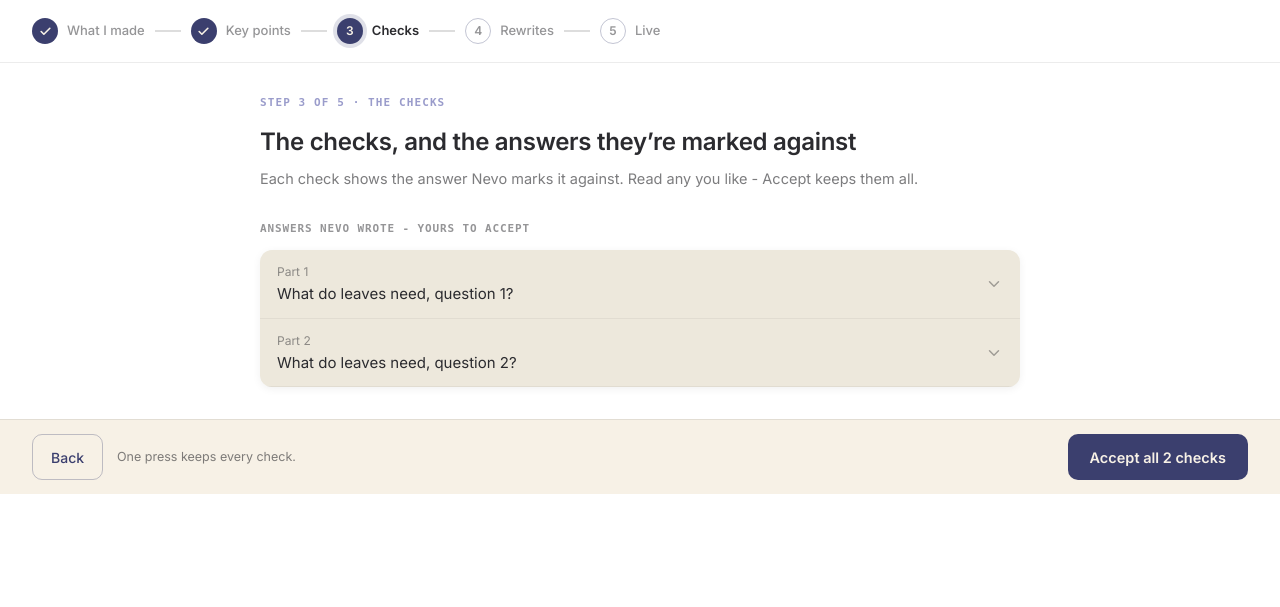
it: reading what the lesson asks › opens a check to its choices, with the answer marked
Expected: the navigation bar named "Lesson review steps" is shown, x1=0 y1=0 x2=1279 y2=63
Click the button "Part 1 What do leaves need, question 1?". click: (293, 271)
box: x1=260 y1=250 x2=1020 y2=318
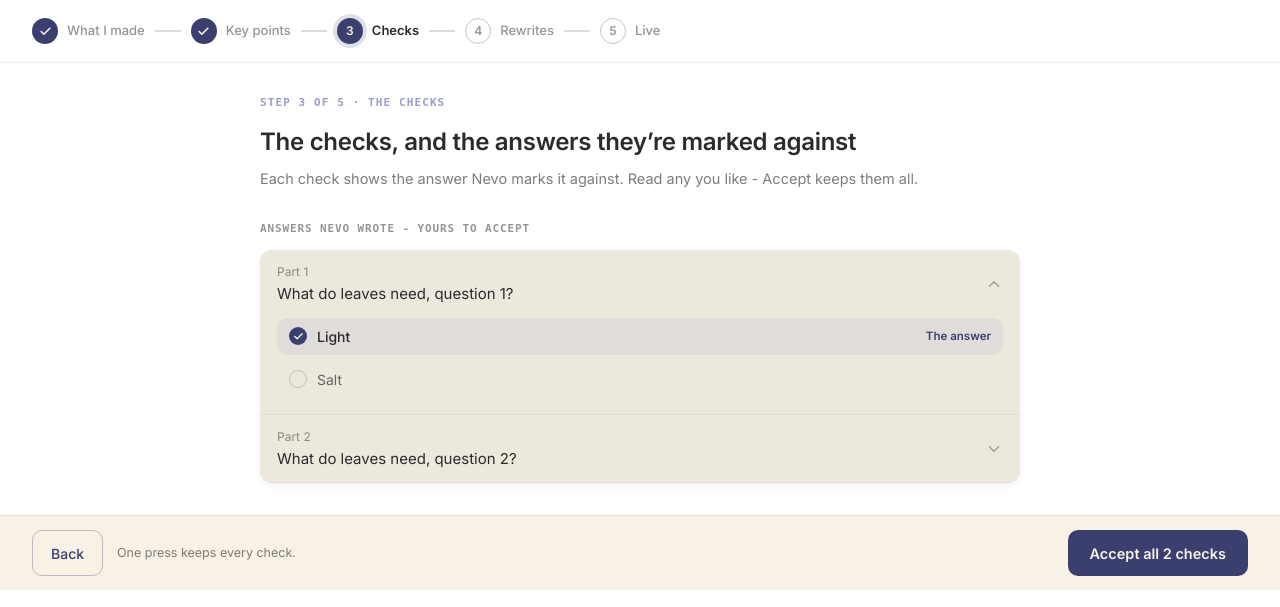
Expected: the text "The answer" is shown, x1=926 y1=328 x2=991 y2=345
